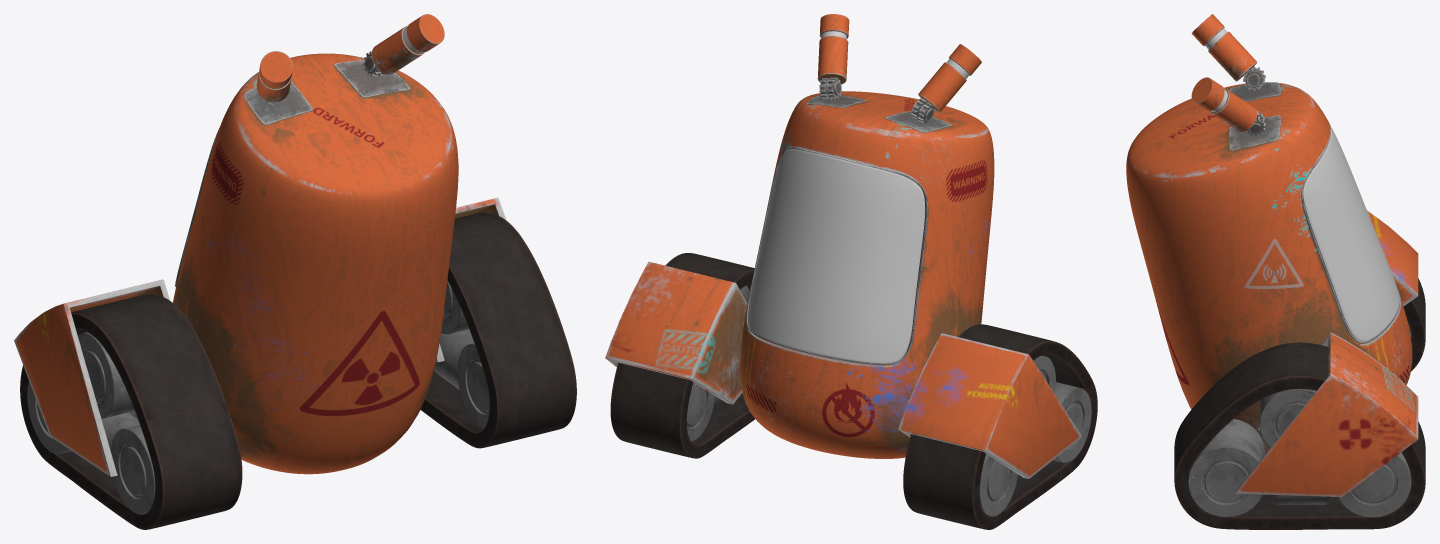
File: 机器人1.obj
The picture shows the model from 3 angles, left to right: view 1: azimuth 30°, elevation 25°; view 2: azimuth 150°, elevation 25°; view 3: azimuth 270°, elevation 25°; orthographic projection. The views are drawn at different scales.
Parts seen in each view (by area): view 1: 柱体.023, 柱体.024, 柱体.017, 柱体.001; view 2: 柱体.023, Retopo_立方体.004, 柱体.024, 柱体.017, 柱体.001, Retopo_立方体.003; view 3: 柱体.023, 柱体.024, Retopo_立方体.004, 柱体.017, 柱体.001, Retopo_立方体.003.
Part boxes in pixels (x1,y1,x2,y2): 柱体.023: (14, 53, 506, 476); 柱体.024: (20, 14, 576, 529); 柱体.017: (27, 281, 489, 514); 柱体.001: (244, 51, 410, 124); 柱体.023: (605, 91, 1081, 478); Retopo_立方体.004: (747, 147, 925, 365); 柱体.024: (610, 14, 1097, 529); 柱体.017: (686, 285, 1091, 516); 柱体.001: (807, 77, 951, 132); Retopo_立方体.003: (746, 147, 928, 365); 柱体.023: (1126, 83, 1418, 497); 柱体.024: (1174, 14, 1425, 529); Retopo_立方体.004: (1303, 125, 1399, 341); 柱体.017: (1188, 321, 1411, 517); 柱体.001: (1229, 66, 1280, 150); Retopo_立方体.003: (1301, 134, 1400, 343).
Bounding box in the file's own units: 1.49 × 1.43 × 0.981.
